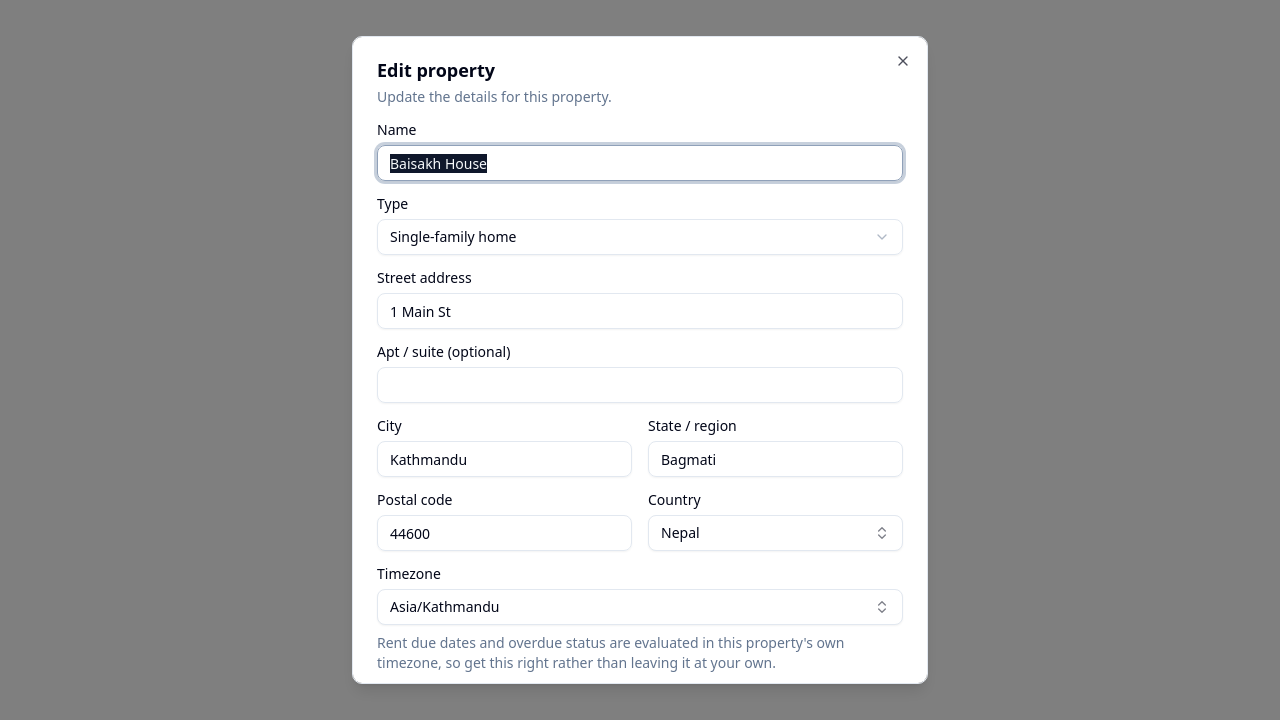
PropertyFormDialog › never derives the calendar from the country while editing an existing property
Step 1. Click the dropdown named "country" → (776, 533), box [648,515,903,551]
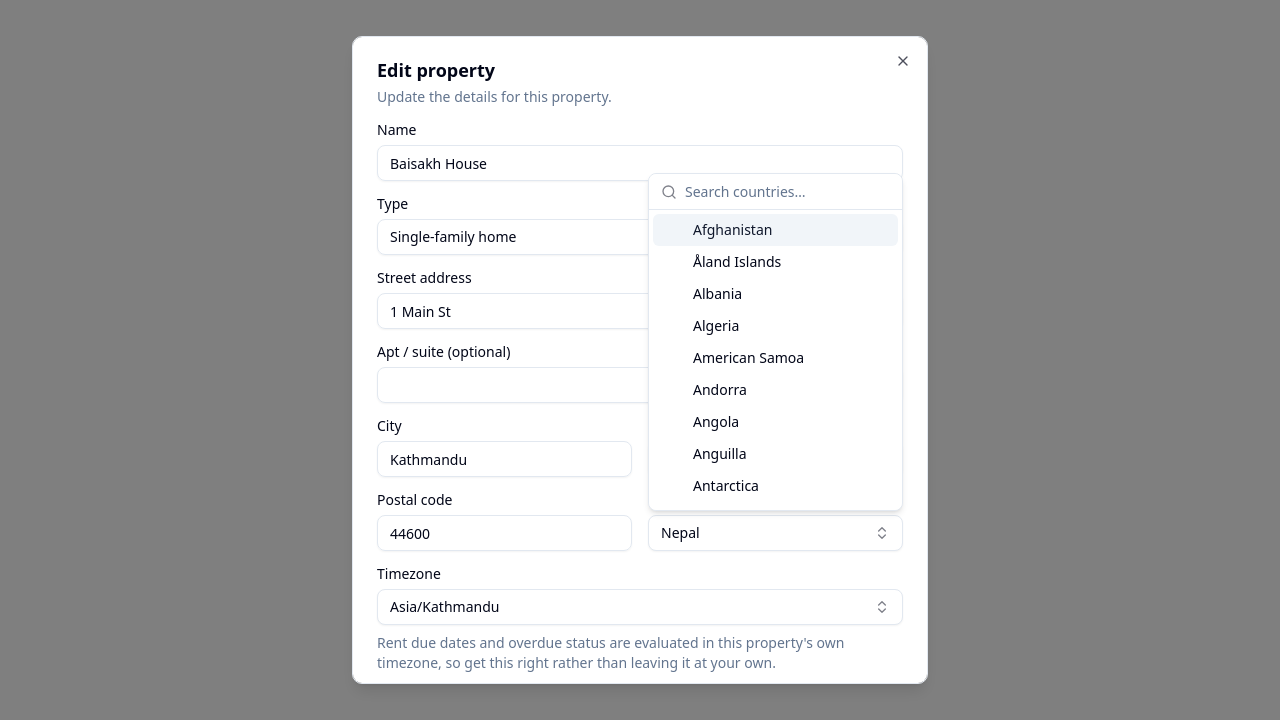
Step 2. Type "united states" into the dropdown with placeholder "Search countries…" → (788, 192), box [685,172,890,212]
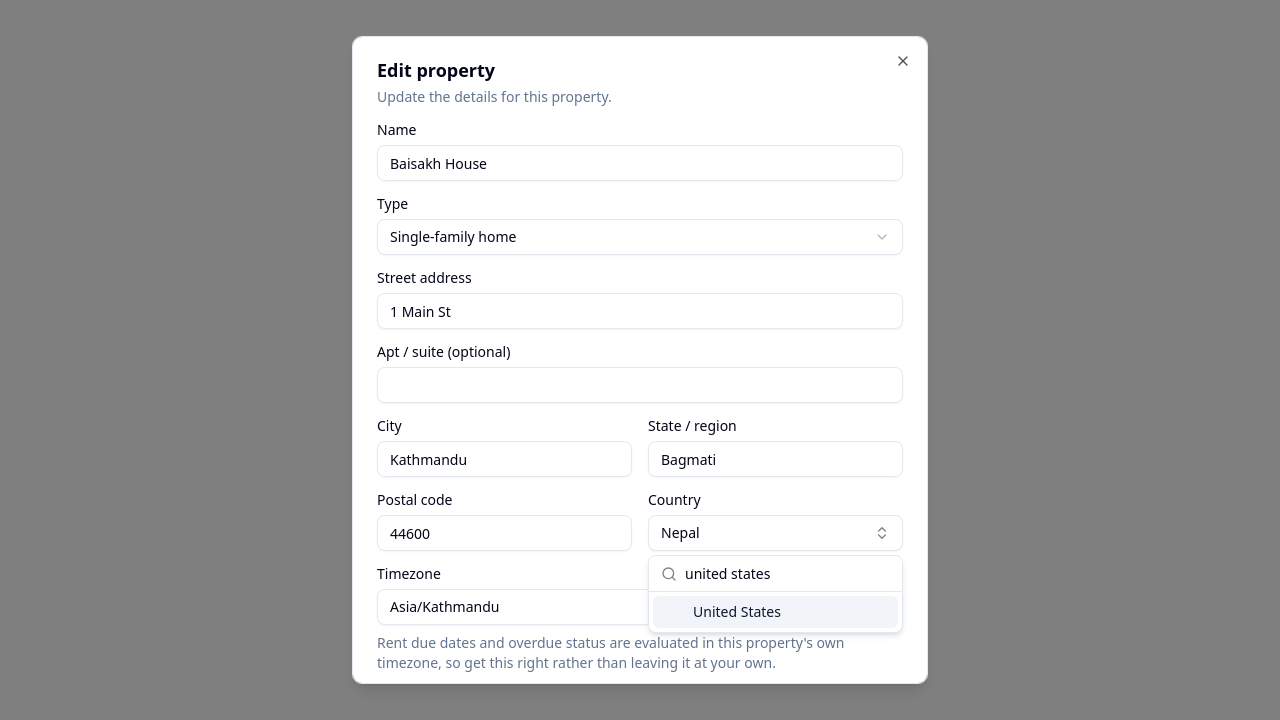
Step 3. Click the option "United States" → (776, 612), box [653,596,898,628]
(page scrolled)
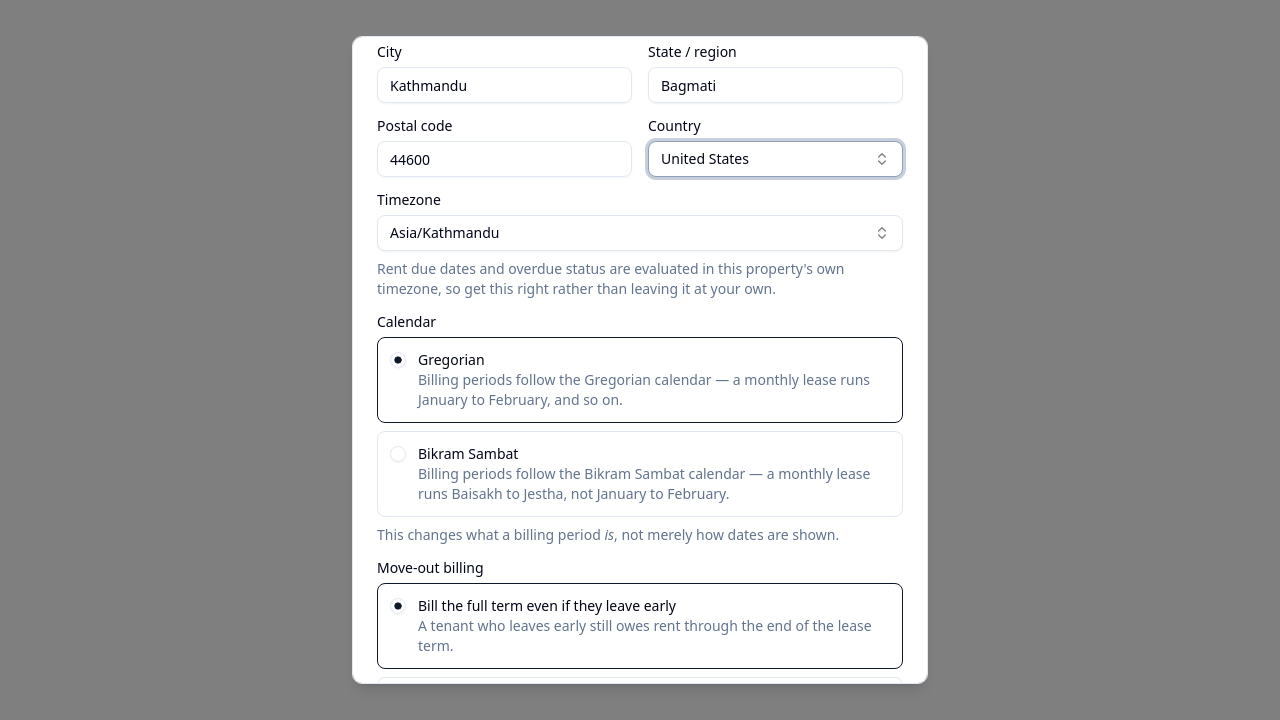
Expected: the 1st radio button named "gregorian" is checked, [390,352,406,368]
